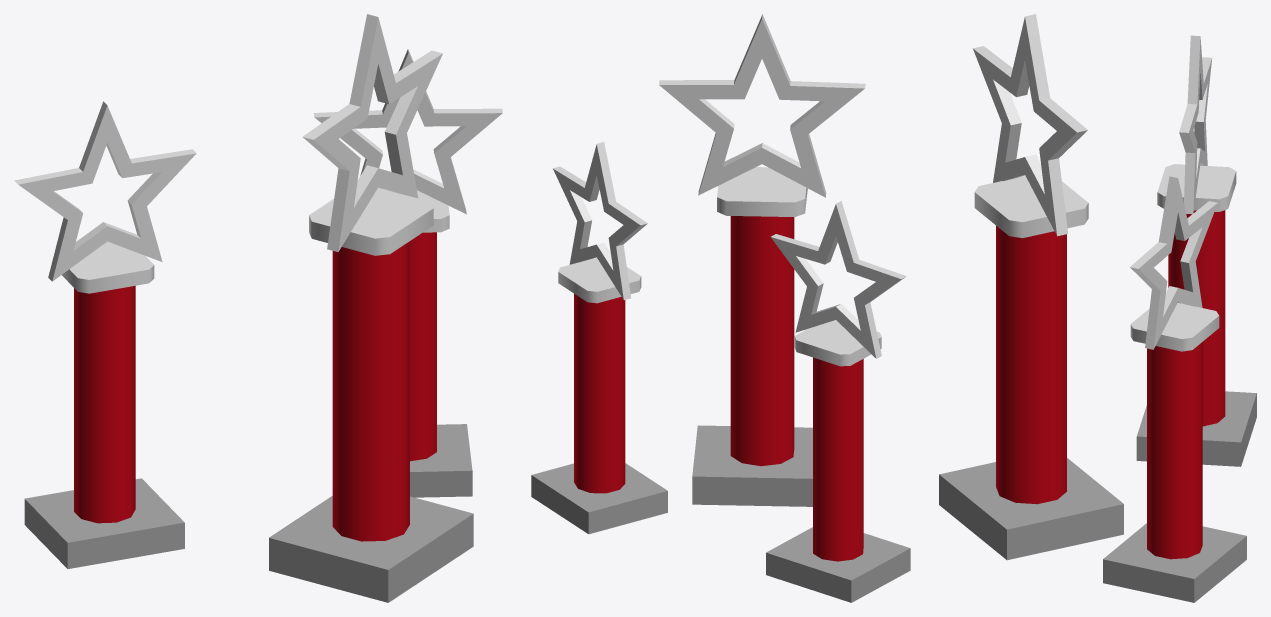
File: Trophies.fbx
The picture shows the model from 3 angles, left to right: view 1: azimuth 30°, elevation 25°; view 2: azimuth 150°, elevation 25°; view 3: azimuth 270°, elevation 25°; orthographic projection. The views are drawn at different scales.
Visible parts, largest first — view 1: Trophy 2; view 2: Trophy 2; view 3: Trophy 2.
Part boxes in pixels (bbox=[...]): Trophy 2: bbox=[14, 14, 502, 602]; Trophy 2: bbox=[531, 14, 910, 602]; Trophy 2: bbox=[939, 14, 1256, 602].
Bounding box in the file's own units: 240 × 278 × 158.
